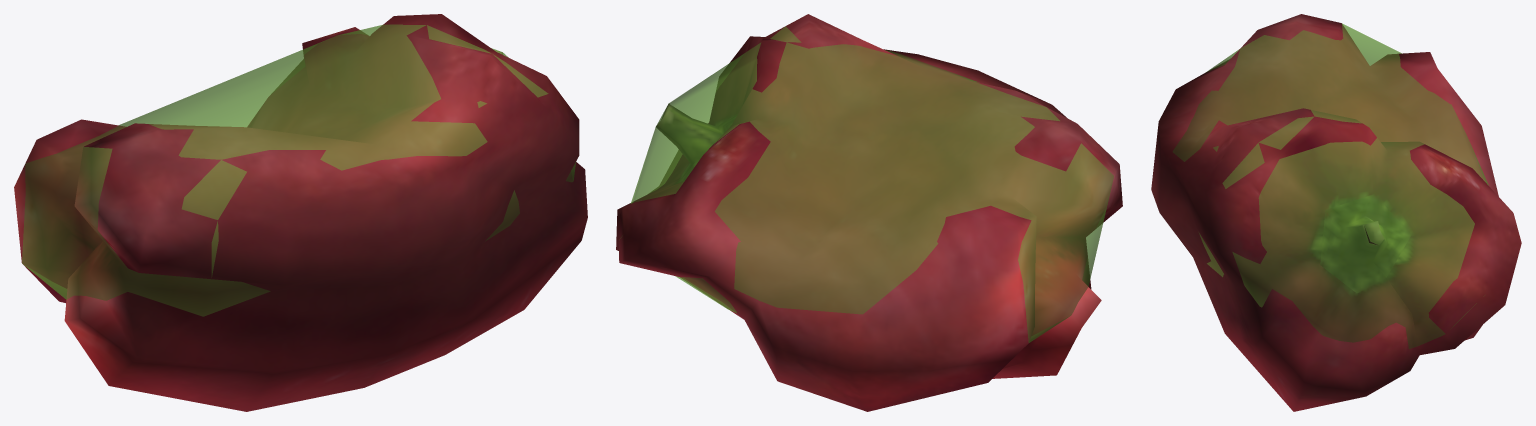
File: pg_Pepper_01_f.fbx
The picture shows the model from 3 angles, left to right: view 1: azimuth 30°, elevation 25°; view 2: azimuth 150°, elevation 25°; view 3: azimuth 270°, elevation 25°; orthographic projection. The views are drawn at different scales.
Visible parts, largest first — view 1: pg_Pepper_01_f_LOD0, pg_Pepper_01_f_col; view 2: pg_Pepper_01_f_LOD0, pg_Pepper_01_f_col; view 3: pg_Pepper_01_f_LOD0, pg_Pepper_01_f_col.
Part boxes in pixels (x1,y1,x2,y2): pg_Pepper_01_f_LOD0: (14, 14, 587, 411); pg_Pepper_01_f_col: (22, 24, 576, 316); pg_Pepper_01_f_LOD0: (616, 14, 1122, 411); pg_Pepper_01_f_col: (620, 26, 1113, 342); pg_Pepper_01_f_LOD0: (1151, 14, 1521, 411); pg_Pepper_01_f_col: (1173, 23, 1488, 348).
Size of what is drawn, in the model's own units: 15.75 by 10.07 by 11.45.
